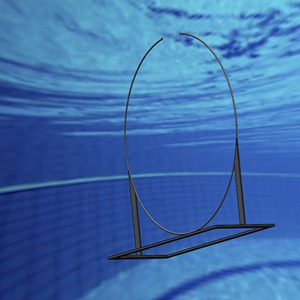circle: (109, 29, 275, 259)
